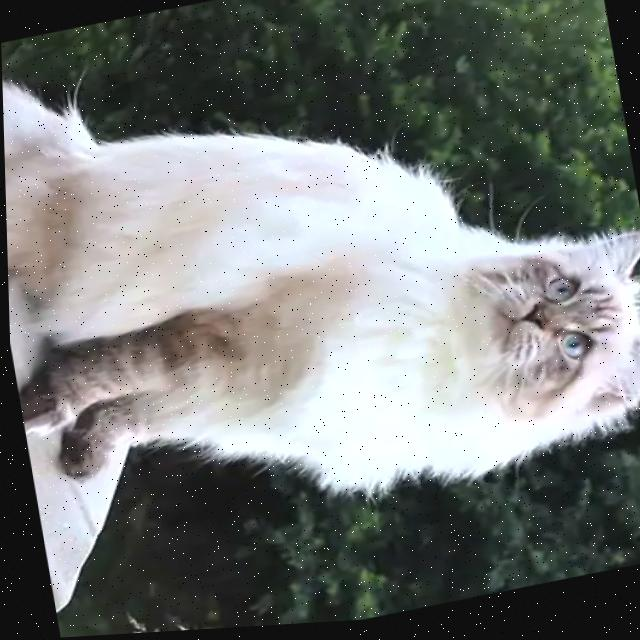Neva Masquerade: (0, 0, 640, 569)
